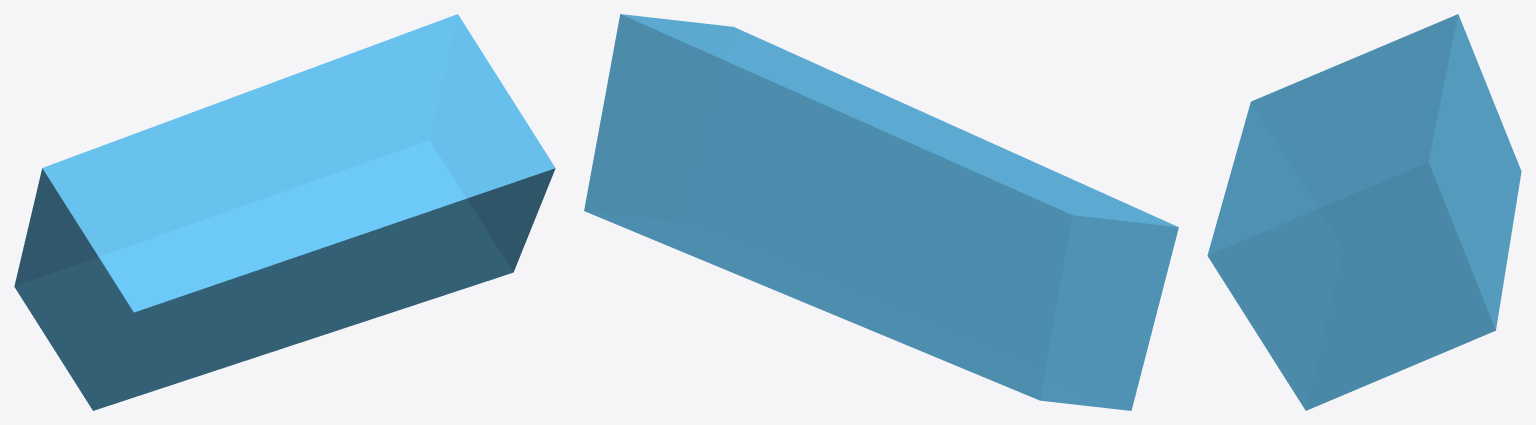
Rendered from Event_420107950_HErechit_63.fbx.
3 renders of one model, left to right at view 1: azimuth 30°, elevation 25°; view 2: azimuth 150°, elevation 25°; view 3: azimuth 270°, elevation 25°, orthographic. The views are drawn at different scales.
Parts seen in each view (by area): view 1: Model; view 2: Model; view 3: Model.
Part boxes in pixels (x1,y1,x2,y2): Model: (14, 14, 555, 410); Model: (584, 14, 1178, 410); Model: (1207, 14, 1521, 410).
Size of the model in its own units: 0.7064 by 0.4532 by 0.4206.
